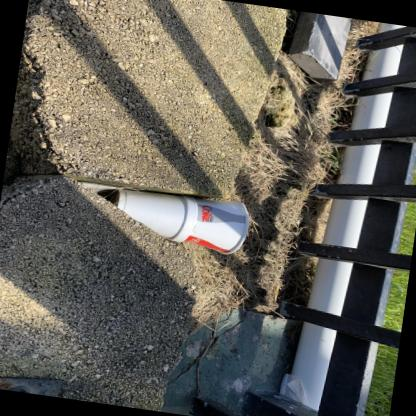Paper: (183, 198, 247, 254)
Plastic: (79, 181, 122, 192)
Waste: (113, 189, 196, 242), (278, 373, 309, 406)
